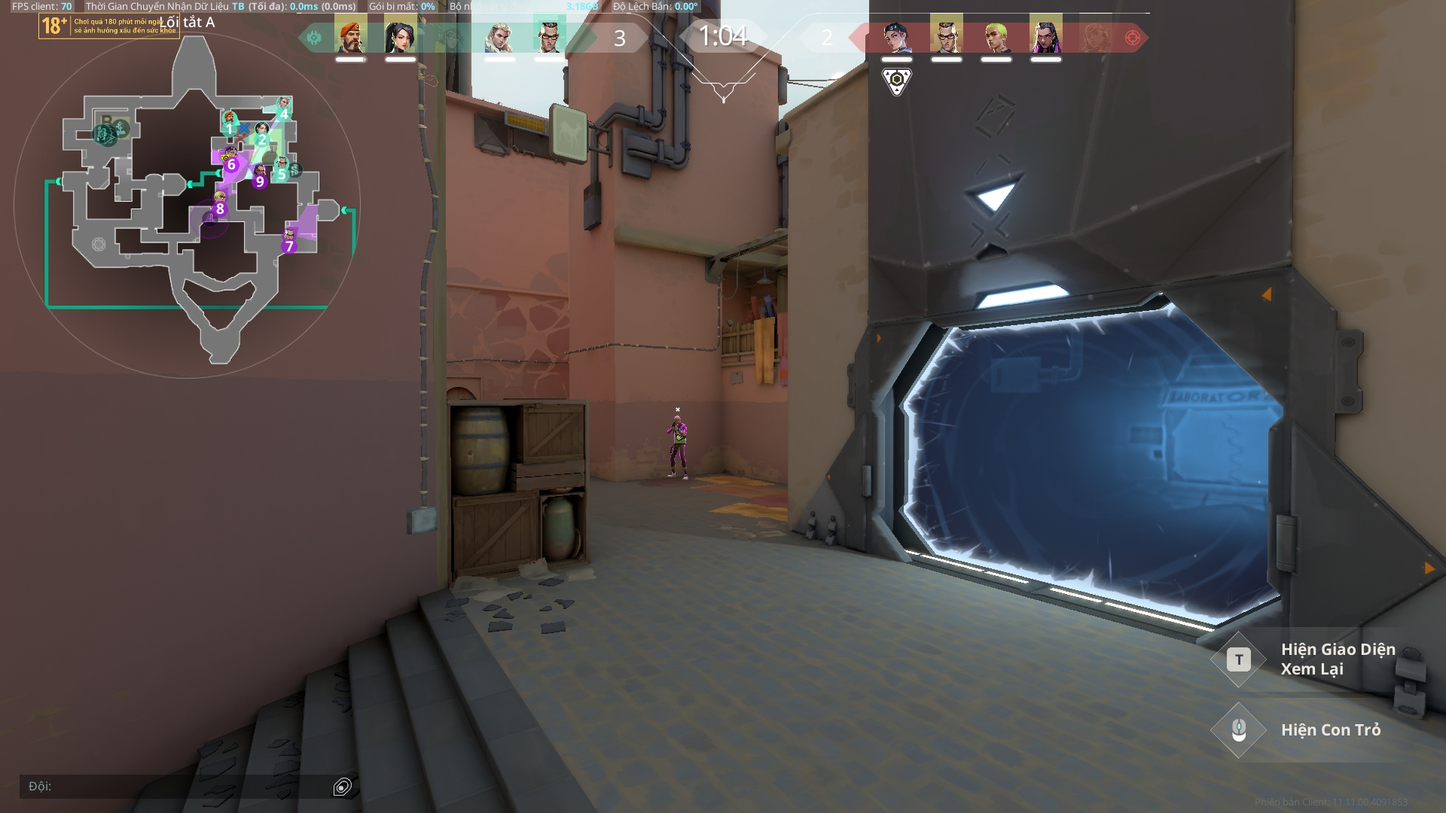body: (671, 422, 687, 443)
head: (673, 414, 681, 423)
